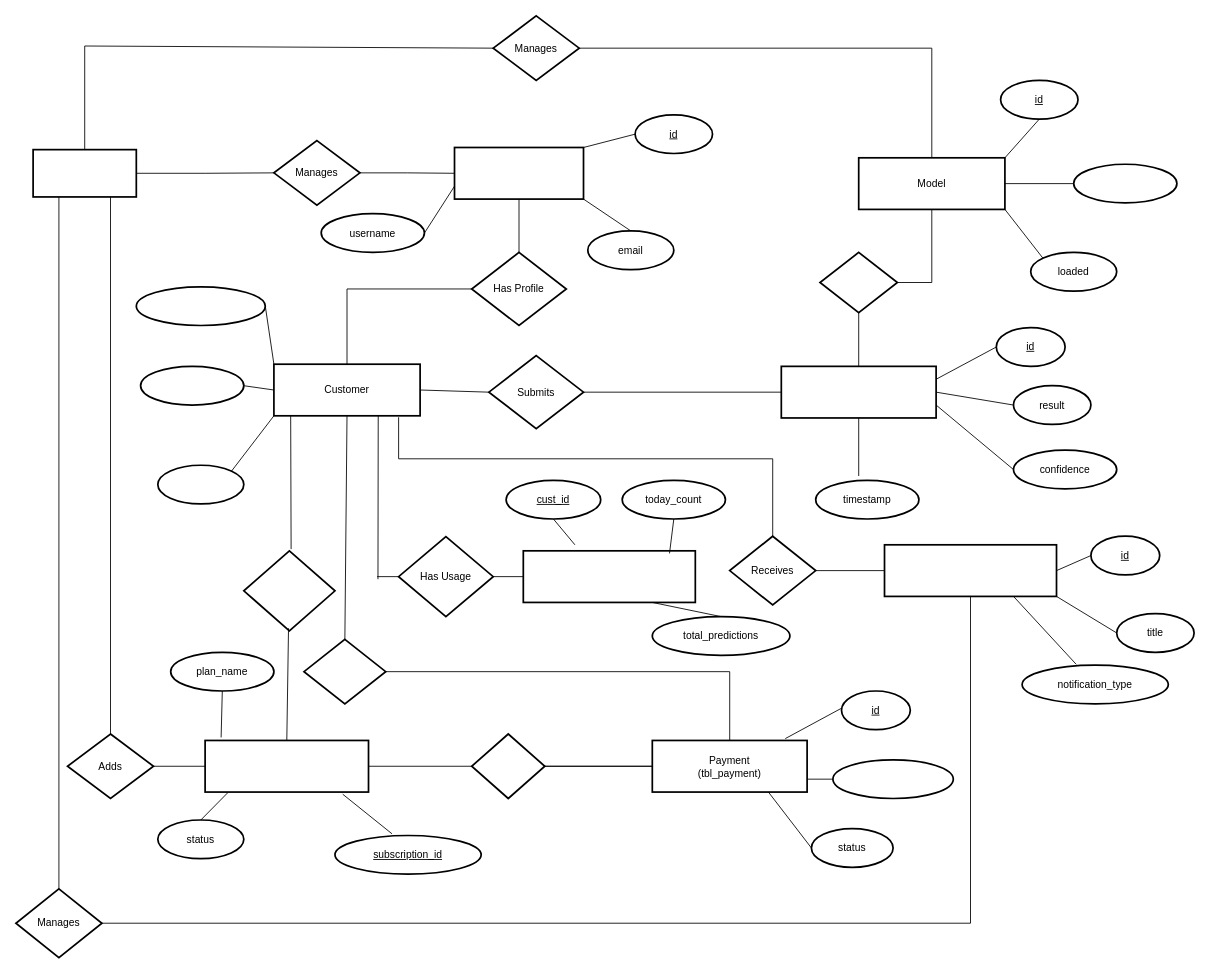
Some shapes in this 1209 by 973 pixel diagram are drawn without their labels. Here are the shapes that lost their labels. From the top down, the centre of each, then its label:
At (x=84, y=172): "Admin".
At (x=518, y=173): "User".
At (x=1124, y=183): "filename".
At (x=858, y=282): "Uses".
At (x=200, y=306): "customer_id".
At (x=191, y=385): "is_admin".
At (x=858, y=391): "Prediction (tbl_prediction)".
At (x=200, y=484): "is_pro".
At (x=289, y=590): "Has".
At (x=609, y=576): "UsageCounter".
At (x=970, y=570): "Notification (tbl_notification)".
At (x=344, y=671): "Makes".
At (x=286, y=765): "Subscription (tbl_subscription)".
At (x=507, y=766): "Covers".
At (x=893, y=779): "amount_cents".
